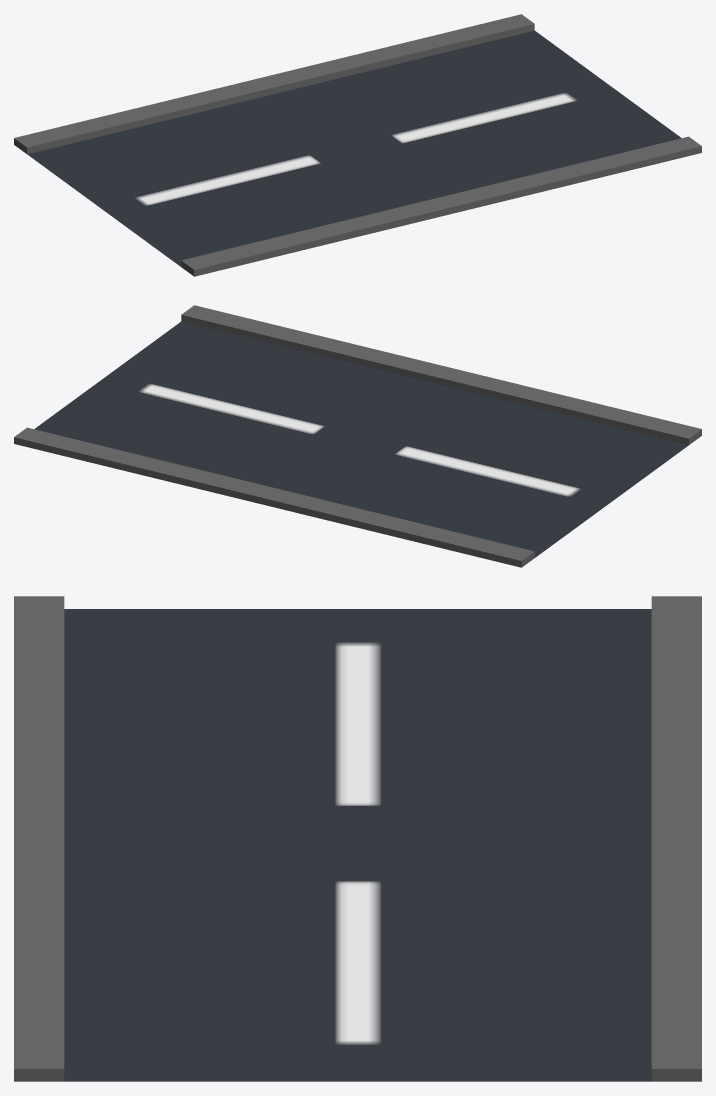
The model's file is Road A_basic.fbx.
The picture shows the model from 3 angles, top to bottom: view 1: azimuth 30°, elevation 25°; view 2: azimuth 150°, elevation 25°; view 3: azimuth 270°, elevation 25°; orthographic projection. The views are drawn at different scales.
Visible parts, largest first — view 1: Road A_basic, Road A_side; view 2: Road A_basic, Road A_side; view 3: Road A_basic, Road A_side.
Part boxes in pixels (x1=…): Road A_basic: x1=27, y1=30, x2=681, y2=266; Road A_side: x1=14, y1=14, x2=701, y2=276; Road A_basic: x1=34, y1=321, x2=688, y2=557; Road A_side: x1=14, y1=305, x2=701, y2=567; Road A_basic: x1=64, y1=609, x2=651, y2=1081; Road A_side: x1=14, y1=596, x2=701, y2=1081.
Bounding box in the file's own units: 4690 × 59.32 × 2886.
2 materials, 1 textured.
